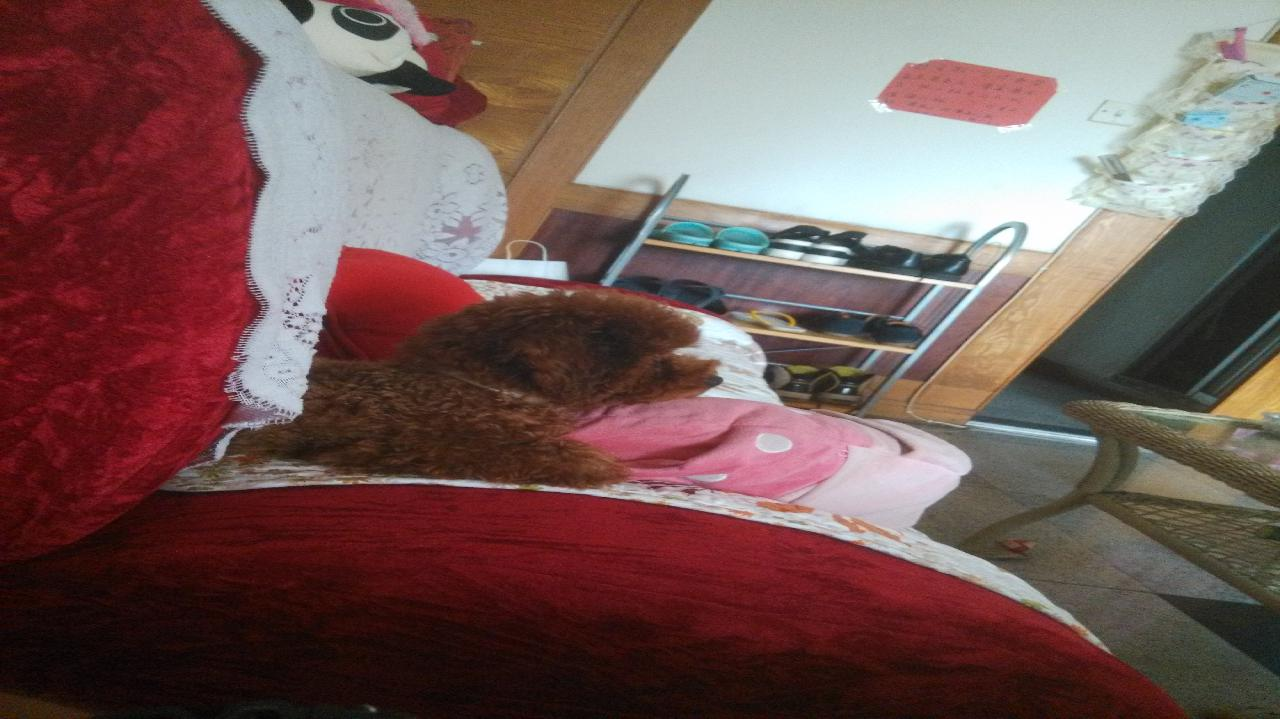zhuangzhuang: (291, 291, 711, 503)
